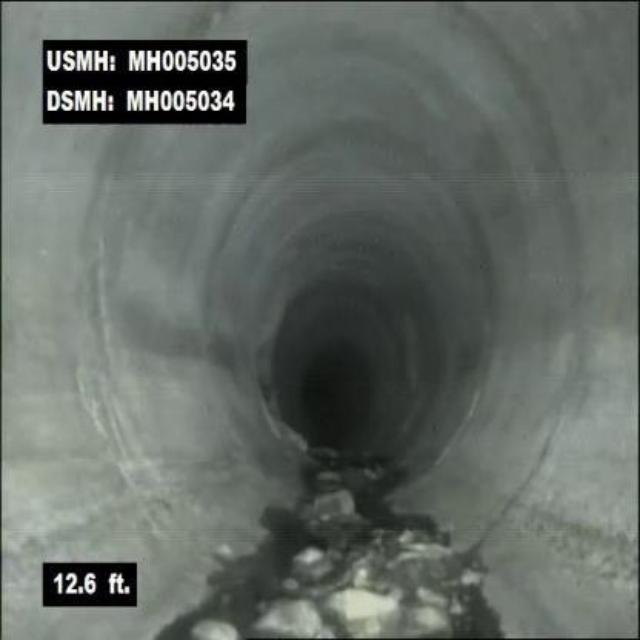Debris: (257, 511, 477, 638)
